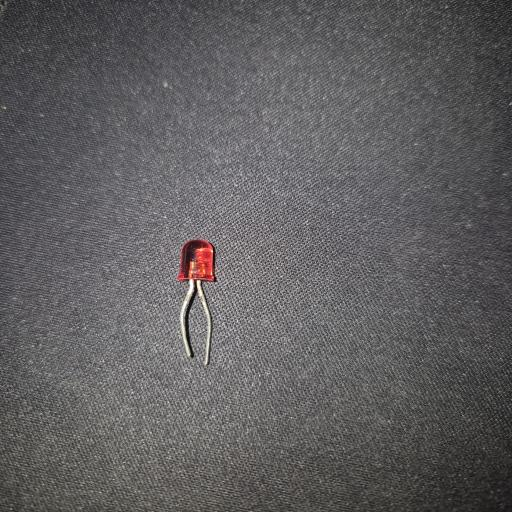led-diode: (177, 239, 216, 365)
